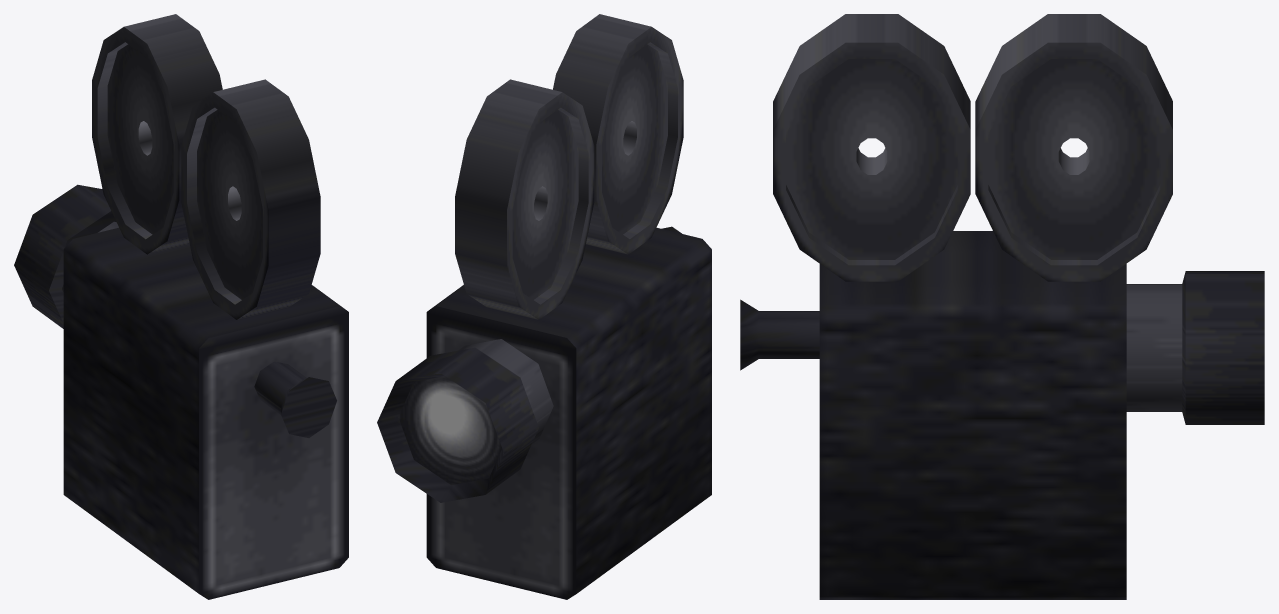
File: replay.ico.obj
The picture shows the model from 3 angles, left to right: view 1: azimuth 30°, elevation 25°; view 2: azimuth 150°, elevation 25°; view 3: azimuth 270°, elevation 25°; orthographic projection. The views are drawn at different scales.
Bounding box in the file's own units: 1.44 × 4.33 × 3.84.
1 material, 1 textured.
